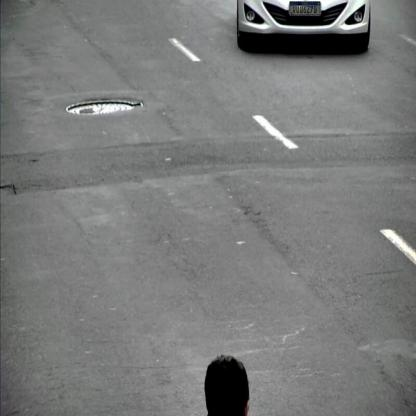PlacaM: (290, 2, 320, 16)
